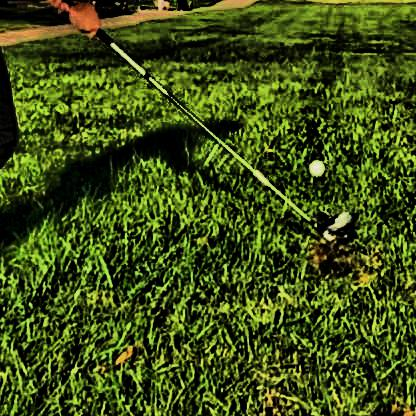golfball: (304, 155, 323, 174)
